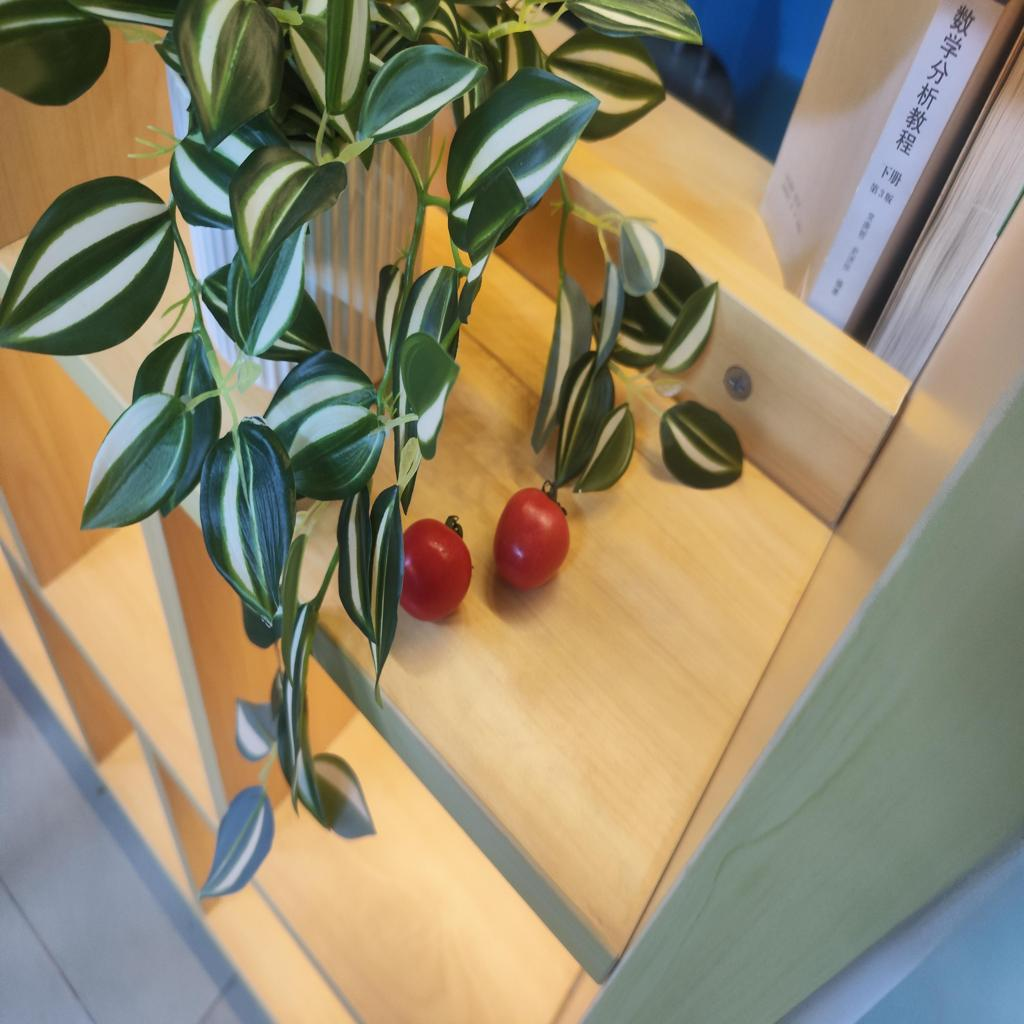tomato: (493, 485, 570, 590), (400, 518, 472, 621)
